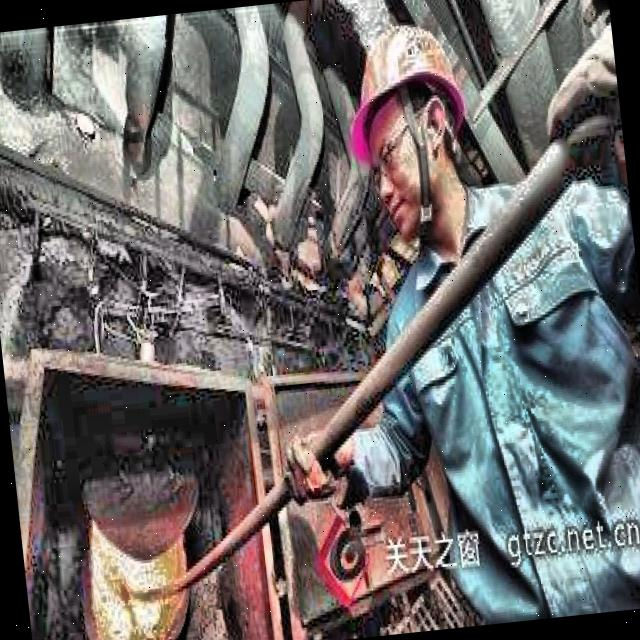helmet: (328, 7, 494, 253)
